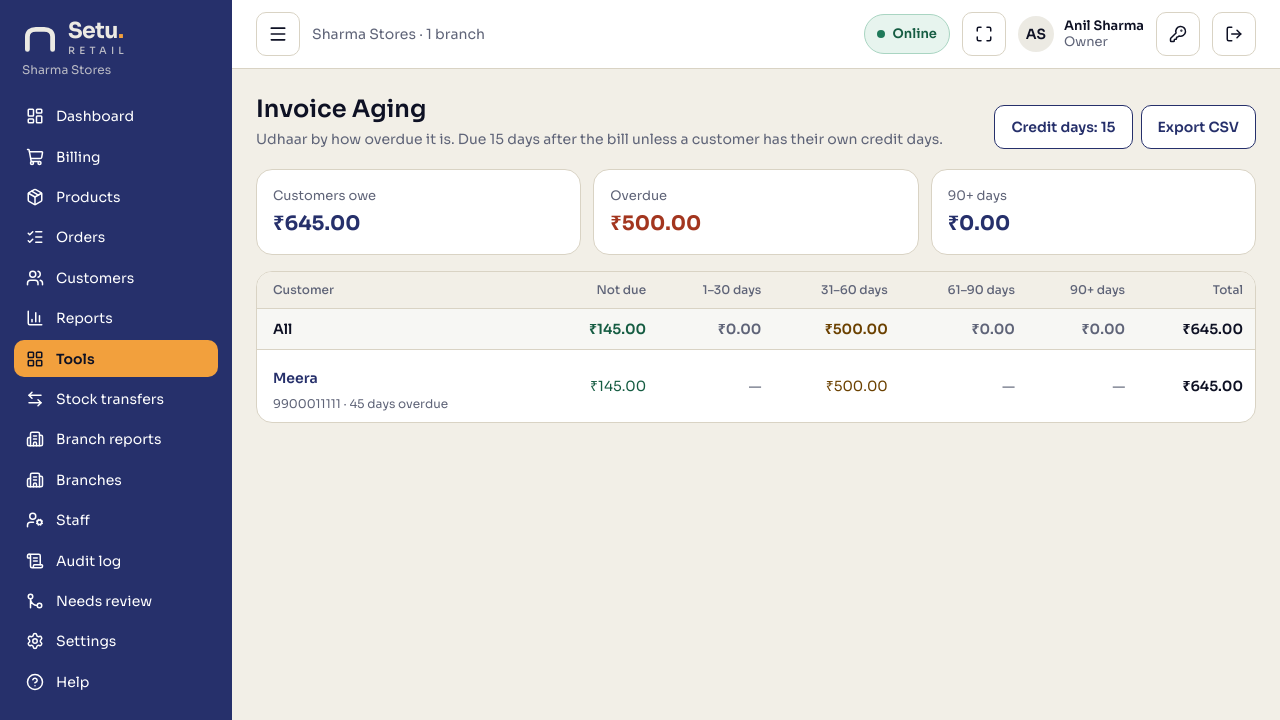
Test: report tools › Invoice Aging shows buckets and lets the owner change credit days
The image size is (1280, 720).
Expected: the text "₹500.00" is shown, 610,210 -> 701,236
Expected: the text "9900011111 · 45 days overdue" is shown, 273,396 -> 448,410
Click the button "Meera" at (295, 378), box 273,360 -> 318,396
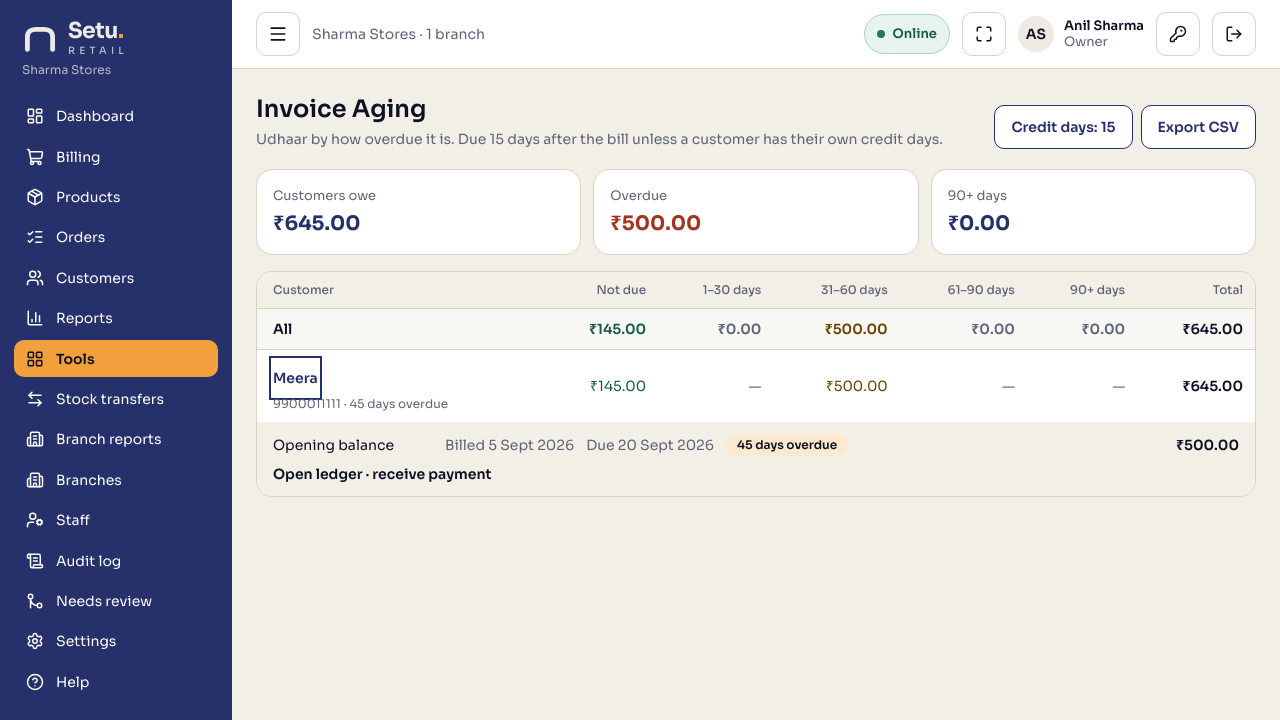
Click the button "Credit days: 15" at (1063, 127), box 994,105 -> 1132,149
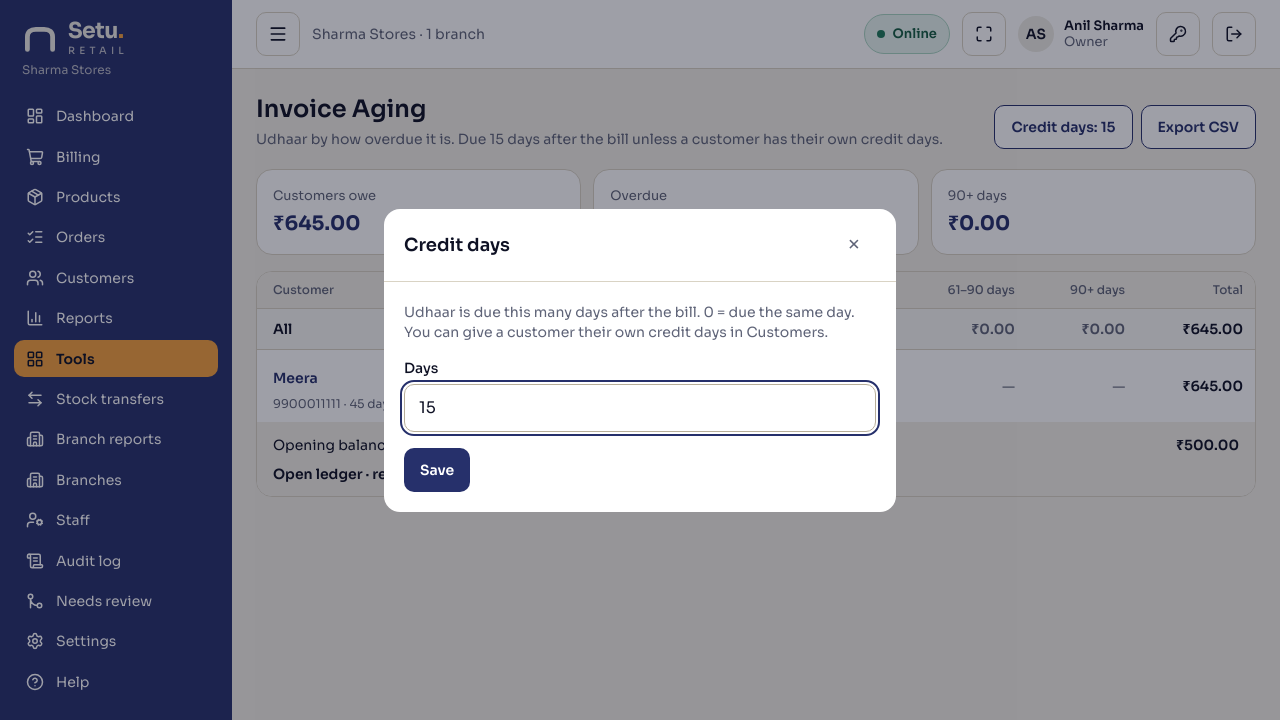
Replace the text in the field labelled "Days" with "30" at (640, 408), box 404,384 -> 876,432
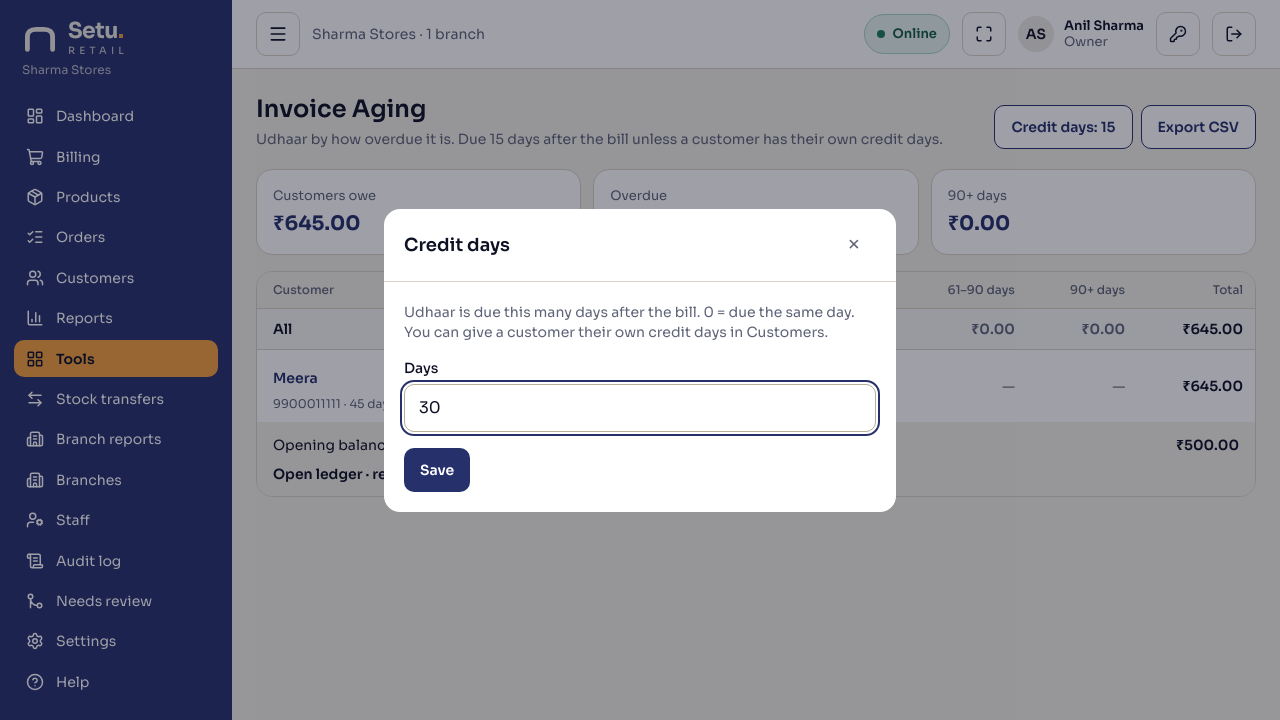
Click the button "Save" at (437, 470), box 404,448 -> 470,492
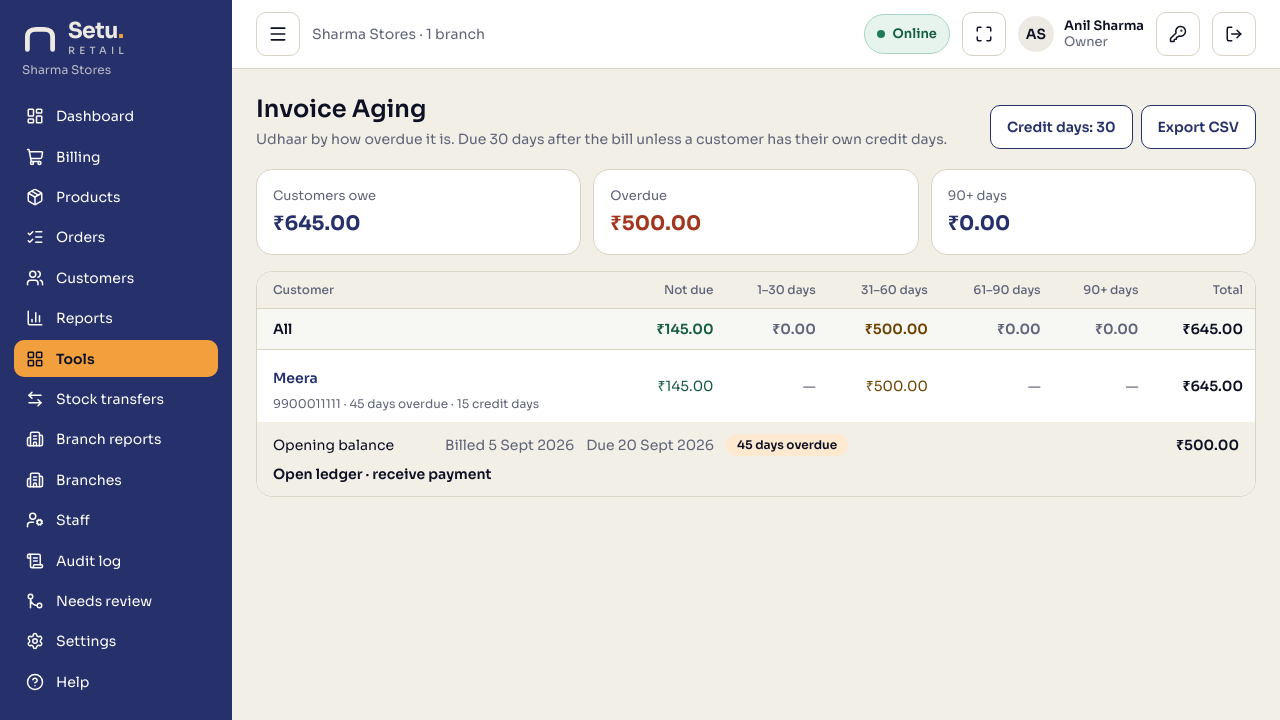
Expected: the button "Credit days: 30" is shown, 990,105 -> 1132,149
